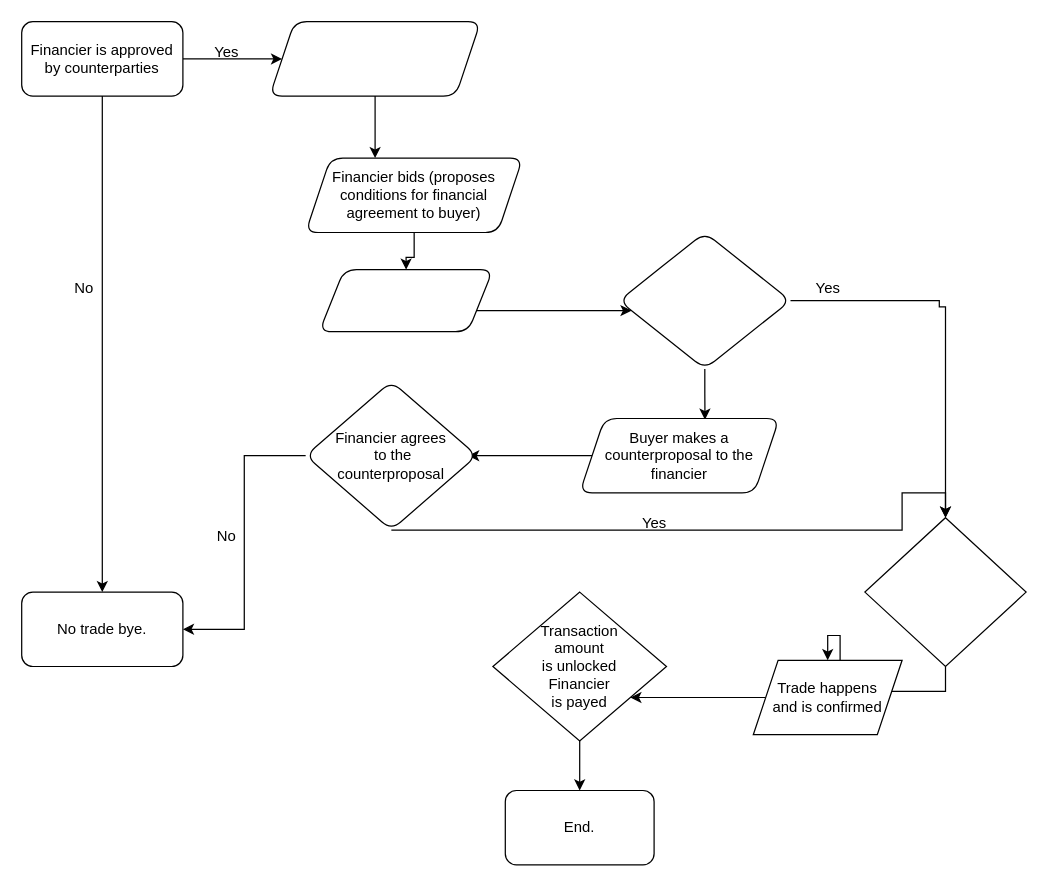
Image size: 1048x887. Some labels were removed from this diagram. Each missing label, with the box of its shape:
A collaboration space is created: (268, 20, 480, 96)
Buyer agrees to the conditions: (618, 231, 790, 369)
Buyer analyses the bid: (318, 268, 493, 332)
Buyer pays. Transaction amount is locked: (864, 516, 1026, 666)
